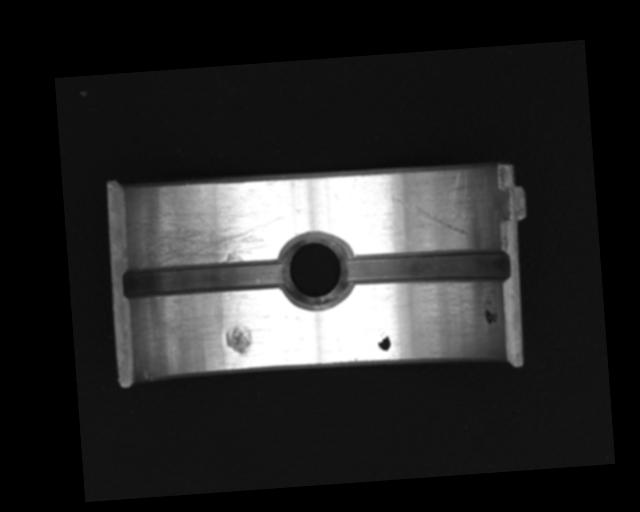blot: (482, 295, 499, 326), (375, 330, 392, 352)
bruise: (223, 323, 254, 356)
gap: (341, 243, 512, 294), (122, 256, 287, 301)
hole: (277, 230, 354, 310)
nick: (389, 189, 470, 242)
scratch: (132, 193, 287, 269)
